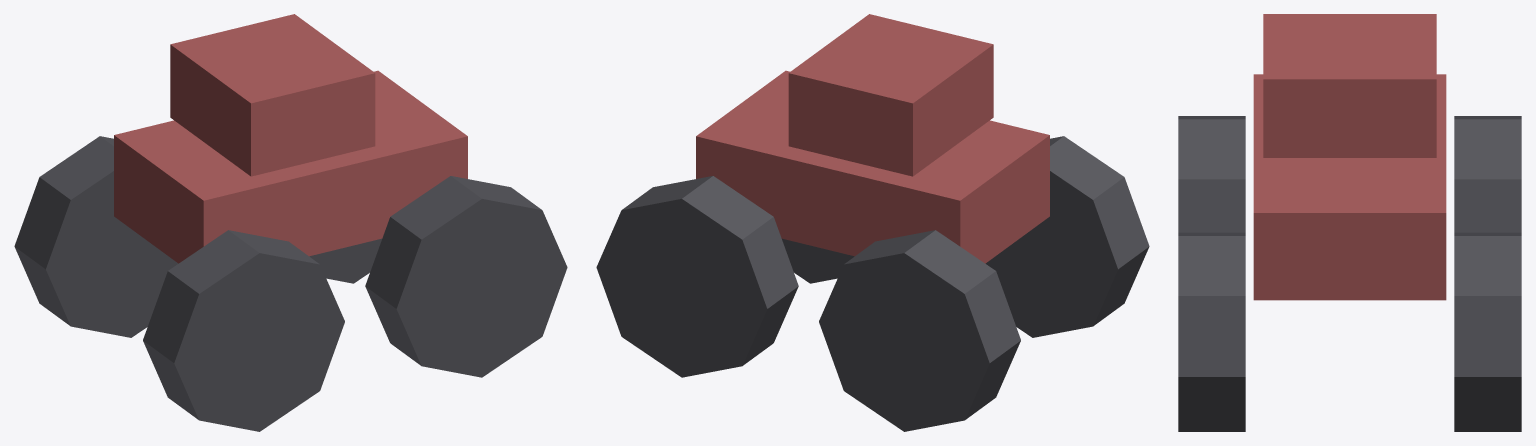
The picture shows the model from 3 angles, left to right: view 1: azimuth 30°, elevation 25°; view 2: azimuth 150°, elevation 25°; view 3: azimuth 270°, elevation 25°; orthographic projection. The views are drawn at different scales.
Visible parts, largest first — view 1: part0, part3, part5, part1, part4, part2; view 2: part0, part2, part4, part1, part5, part3; view 3: part0, part1, part2, part3, part4, part5.
Part boxes in pixels (<box>): part0: <box>114,70,467,263</box>; part3: <box>365,176,567,377</box>; part5: <box>143,230,344,431</box>; part1: <box>170,14,375,176</box>; part4: <box>14,136,178,337</box>; part2: <box>309,238,381,283</box>; part0: <box>696,70,1049,263</box>; part2: <box>596,176,798,377</box>; part4: <box>819,230,1020,431</box>; part1: <box>788,14,993,176</box>; part5: <box>985,136,1149,337</box>; part3: <box>782,238,854,283</box>; part0: <box>1253,74,1446,300</box>; part1: <box>1263,14,1436,157</box>; part2: <box>1454,232,1521,431</box>; part3: <box>1178,232,1245,431</box>; part4: <box>1454,116,1521,232</box>; part5: <box>1178,116,1245,232</box>.
Bounding box in the file's own units: 5.06 × 3.59 × 3.56.
